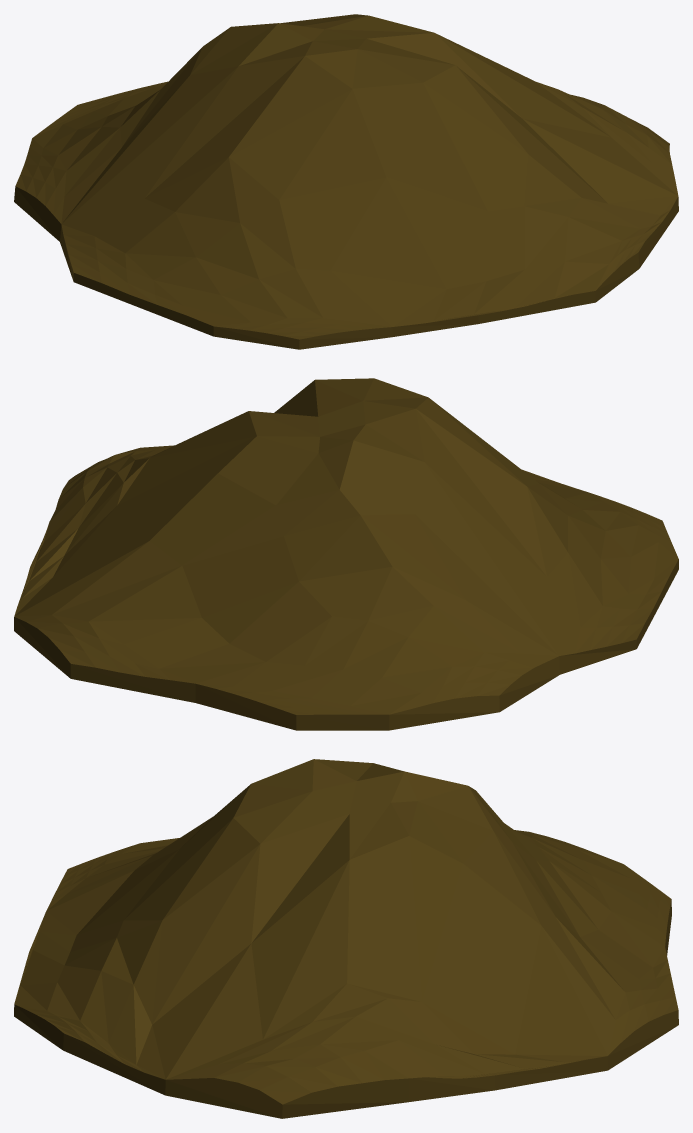
Rendered from PileOfDirt.fbx.
3 renders of one model, top to bottom at view 1: azimuth 30°, elevation 25°; view 2: azimuth 150°, elevation 25°; view 3: azimuth 270°, elevation 25°, orthographic. The views are drawn at different scales.
Visible parts, largest first — view 1: Dirt; view 2: Dirt; view 3: Dirt.
Part boxes in pixels (x1=…): Dirt: x1=14, y1=14, x2=678, y2=349; Dirt: x1=14, y1=378, x2=678, y2=730; Dirt: x1=14, y1=759, x2=678, y2=1118.
Bounding box in the file's own units: 252 × 74 × 243.
